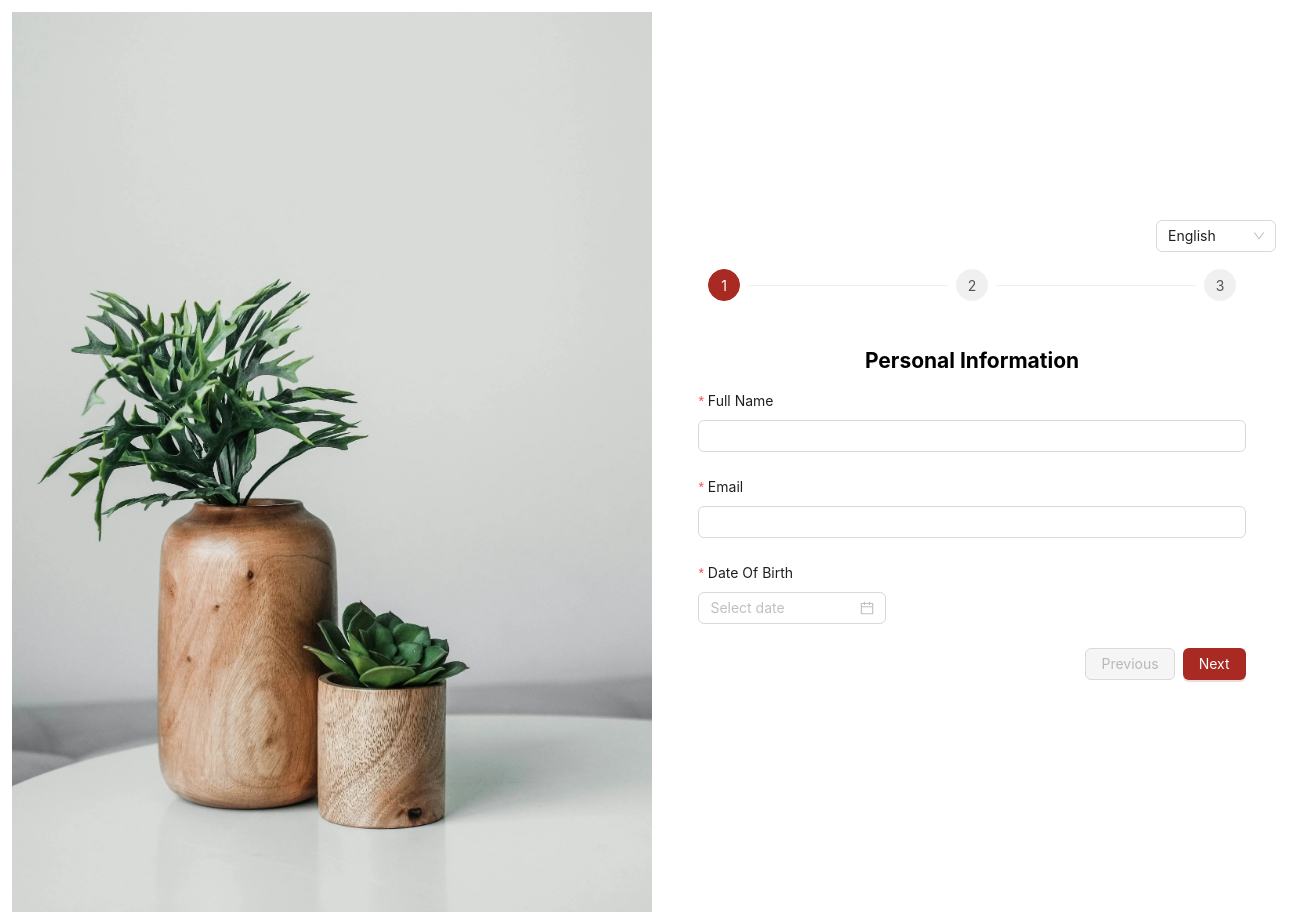
utility › error if there is empty field
This screenshot has width=1292, height=912.
Click the button "Next": x=1214, y=664 [1183,648,1246,680]
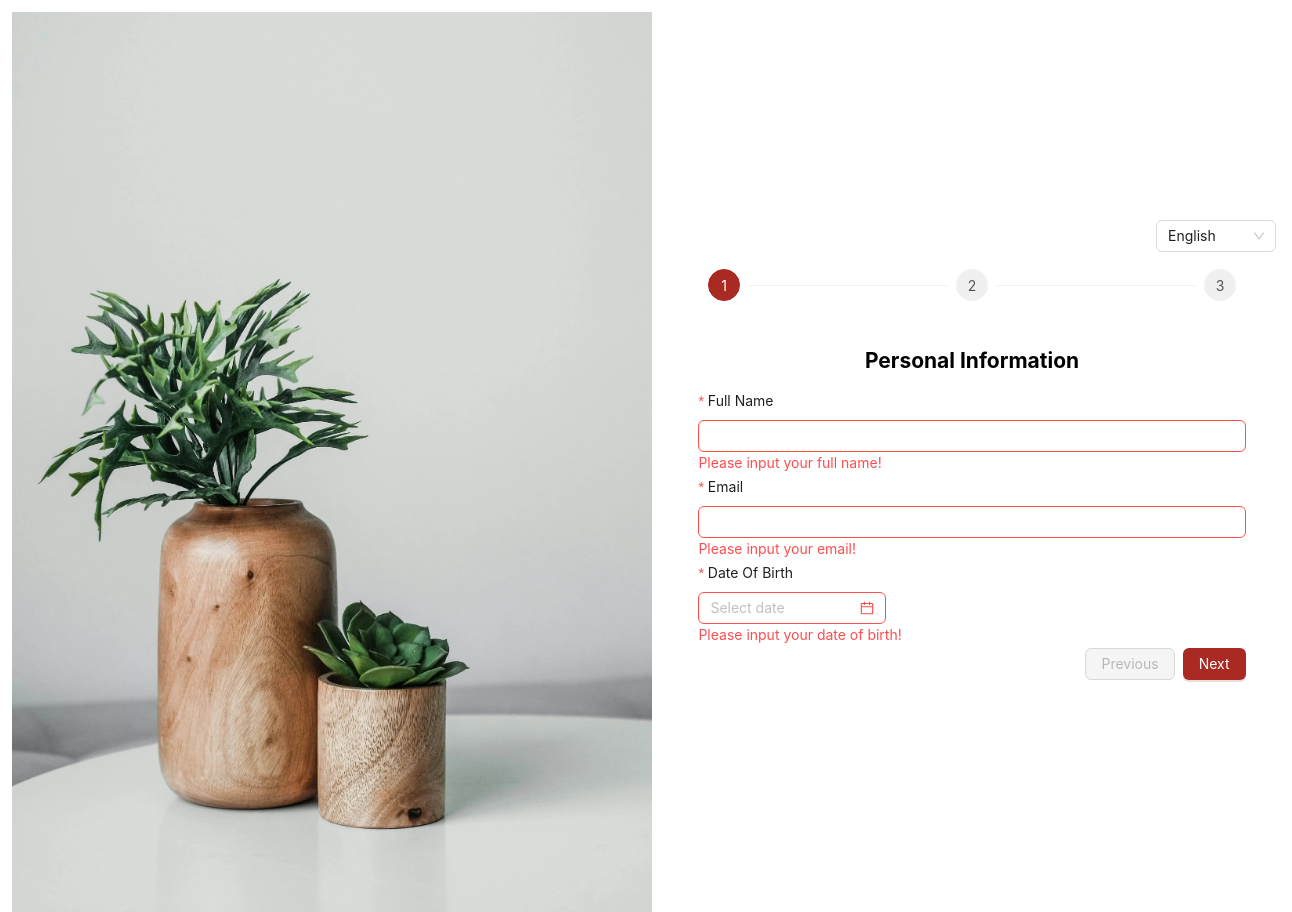
Check: the text "Please input your full name!" is shown, box [698,454,882,471]
